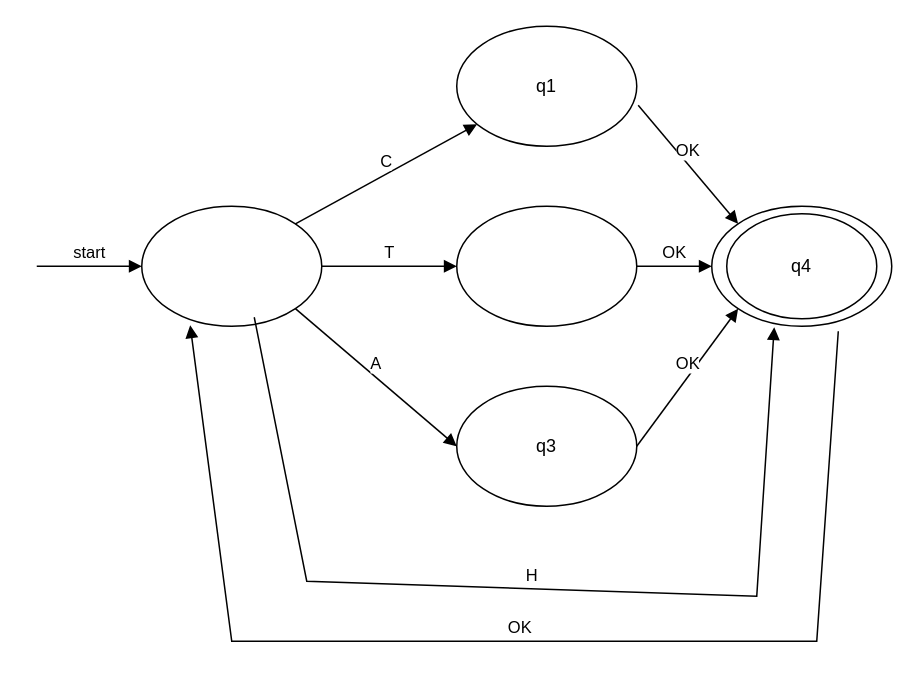
The diagram is 918 pixels wide and 680 high, and some of its shapes have lost their labels. Here are the shapes that lost their labels. From the top down, the centre of each, then its label:
At point (231, 265): "q0".
At point (546, 265): "q2".
